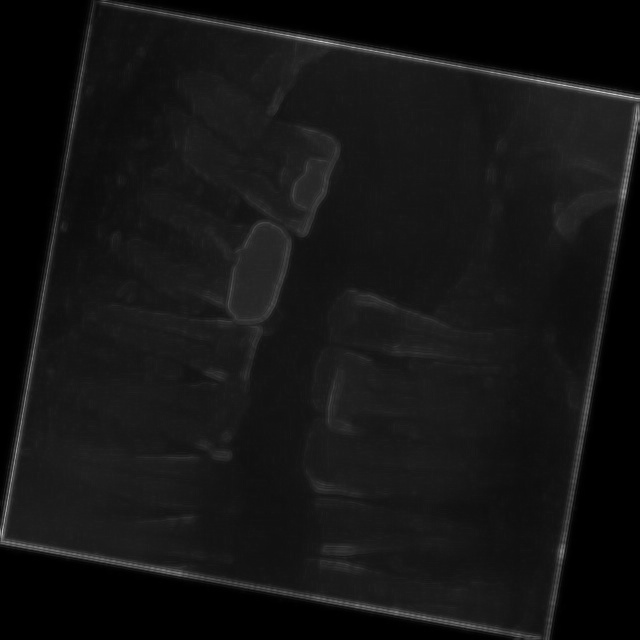Class 2- incomplete endodontic treatment: (100, 184, 319, 338)
cavity: (140, 58, 375, 240)
